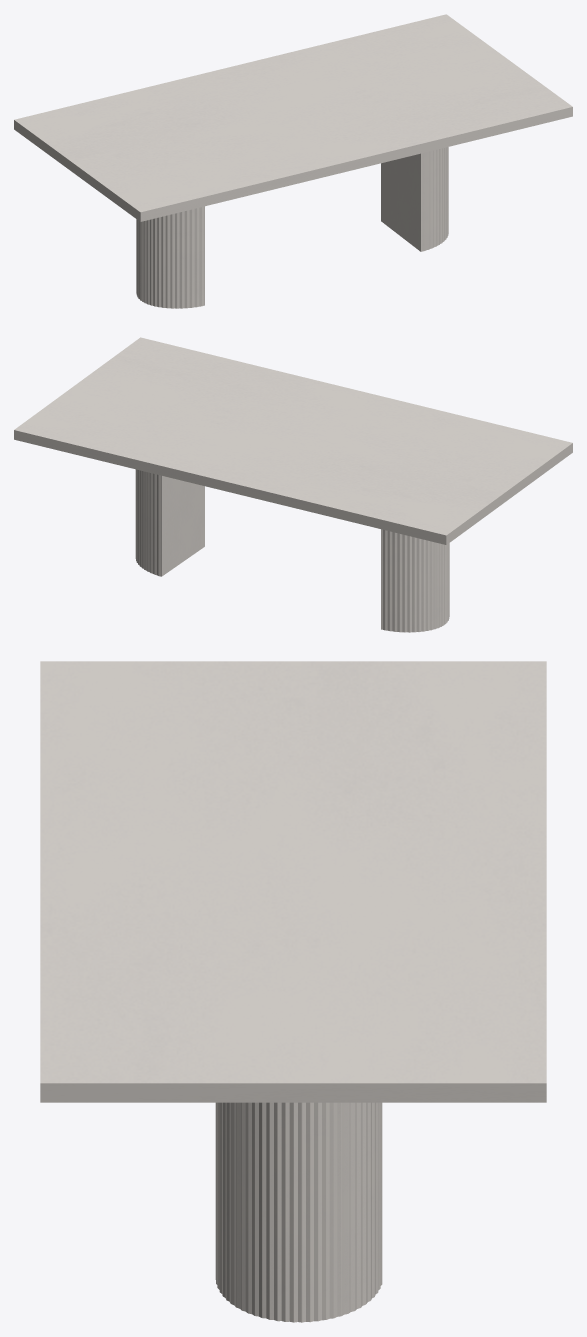
The model's file is pearlwhite_recta_standard_flute.glb.
3 renders of one model, top to bottom at view 1: azimuth 30°, elevation 25°; view 2: azimuth 150°, elevation 25°; view 3: azimuth 270°, elevation 25°, orthographic. The views are drawn at different scales.
Parts seen in each view (by area): view 1: standard_recta, flute; view 2: standard_recta, flute; view 3: standard_recta, flute.
Part boxes in pixels (<box>): standard_recta: <box>14,14,572,221</box>; flute: <box>136,147,448,308</box>; standard_recta: <box>14,337,572,544</box>; flute: <box>135,469,449,632</box>; standard_recta: <box>40,661,546,1102</box>; flute: <box>215,1102,382,1322</box>.
Size of the model in its own units: 7.5 by 2.5 by 3.8.
1 material, 1 textured.
